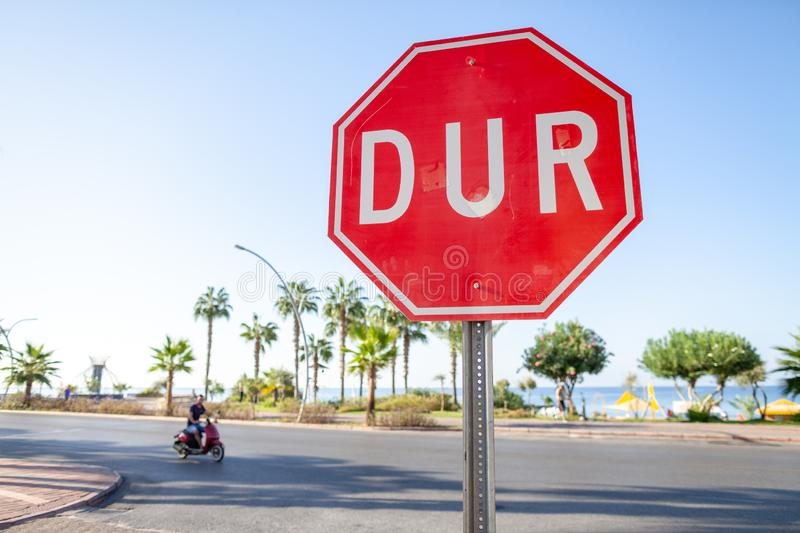dur: (335, 34, 639, 324)
yaya: (166, 386, 236, 462)
